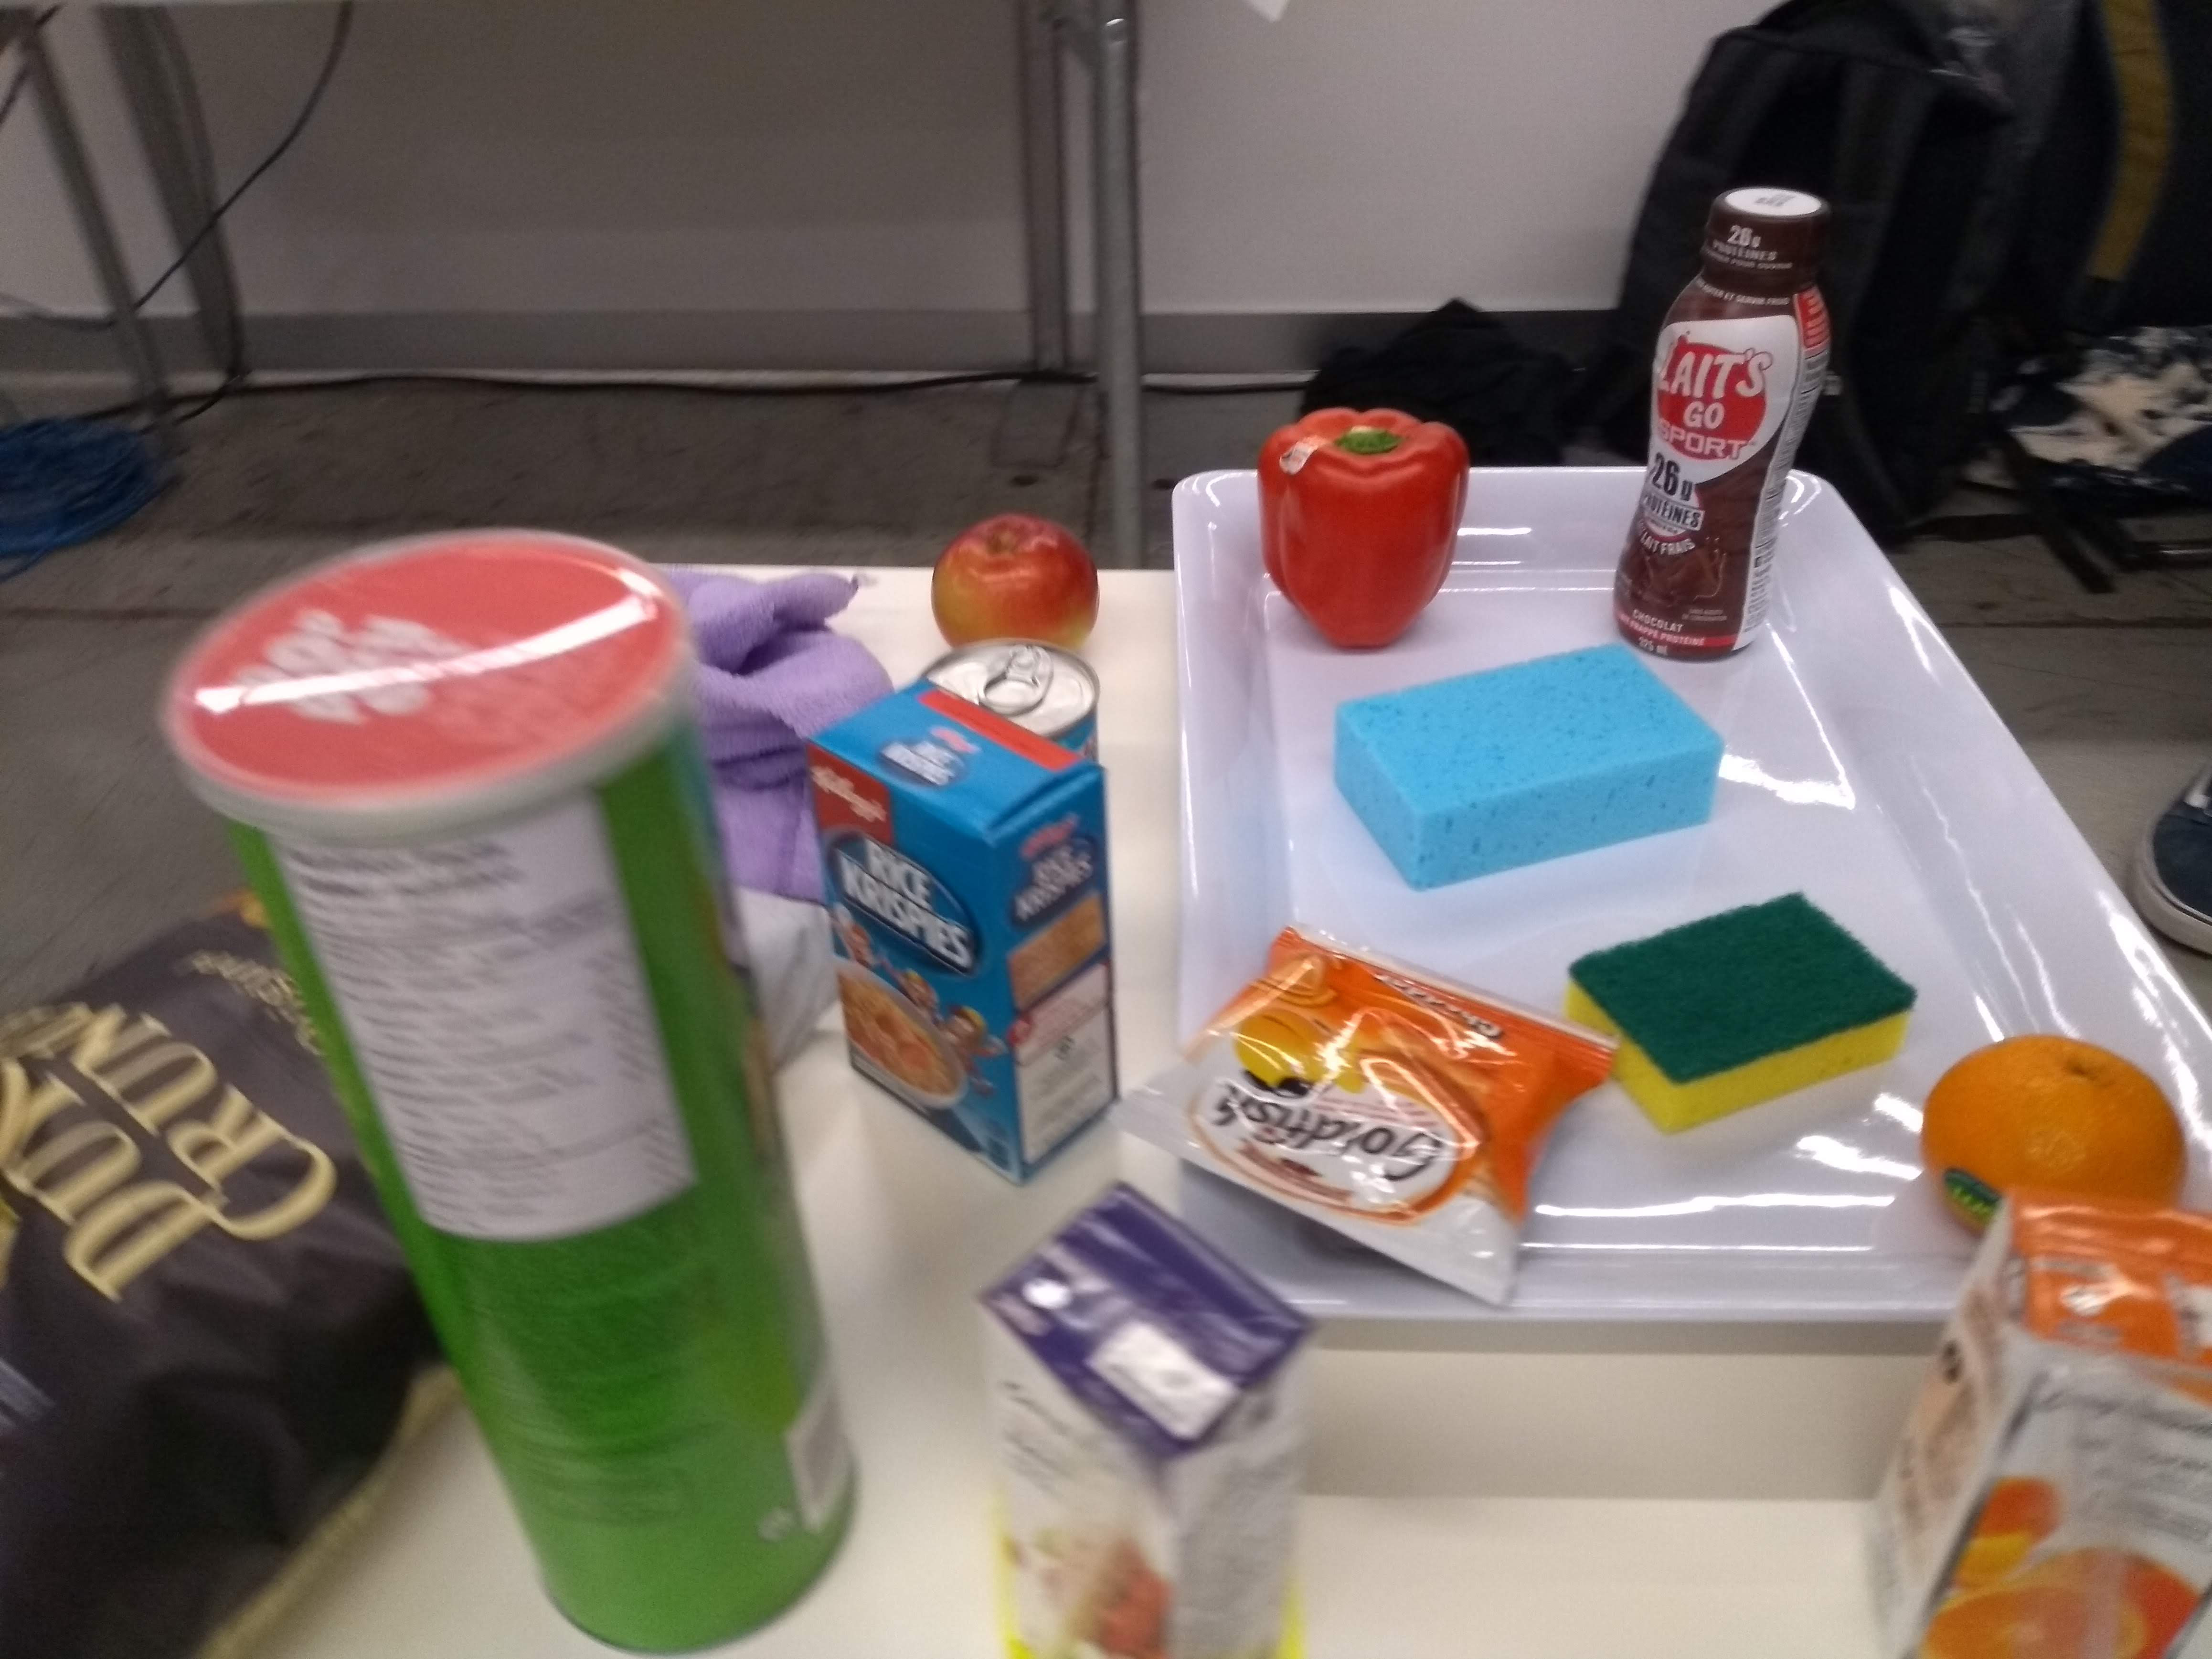apple: (920, 507, 1103, 655)
cereal: (792, 669, 1139, 1188)
chocolate_drink: (1608, 181, 1844, 667)
crackers: (1092, 908, 1627, 1321)
grape_juice: (951, 1188, 1313, 1659)
orange: (1914, 1026, 2195, 1248)
paprika: (1252, 403, 1474, 655)
pringles: (136, 518, 873, 1659)
sponge_opl: (1325, 634, 1728, 899)
